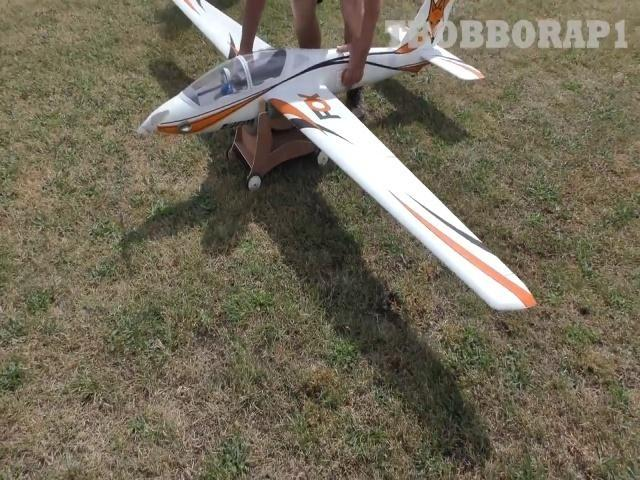Airplane: (137, 1, 536, 310)
